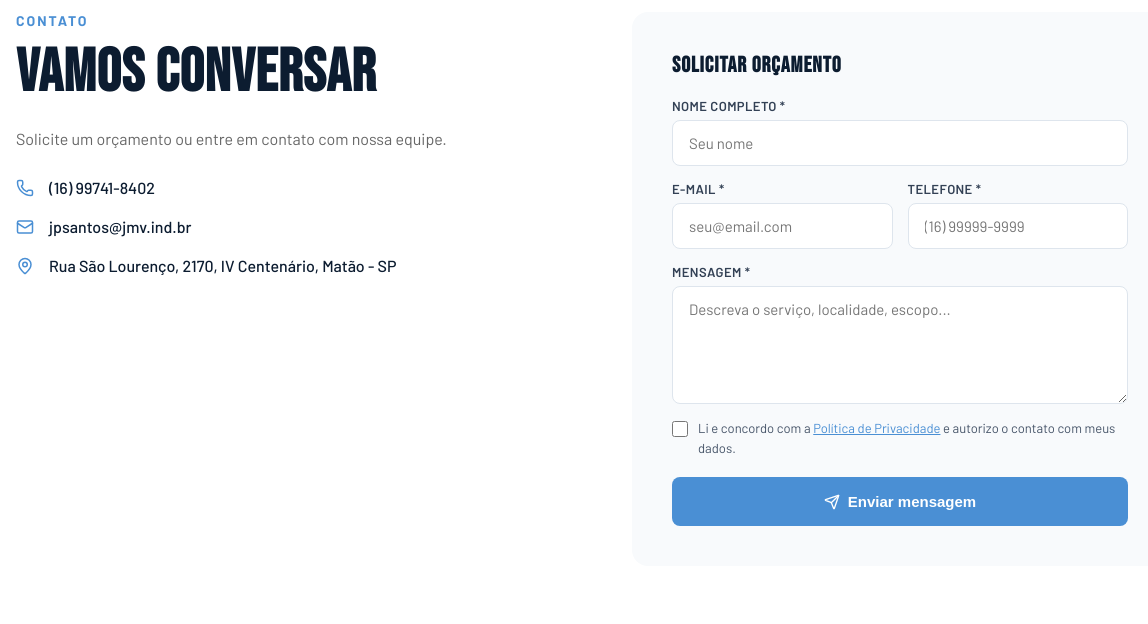
Test: Contact — validação › limpa o erro do campo ao corrigir o valor
The width and height of the screenshot is (1148, 624).
Click the button "Enviar mensagem" at point(900, 502), box [672,477,1128,526]
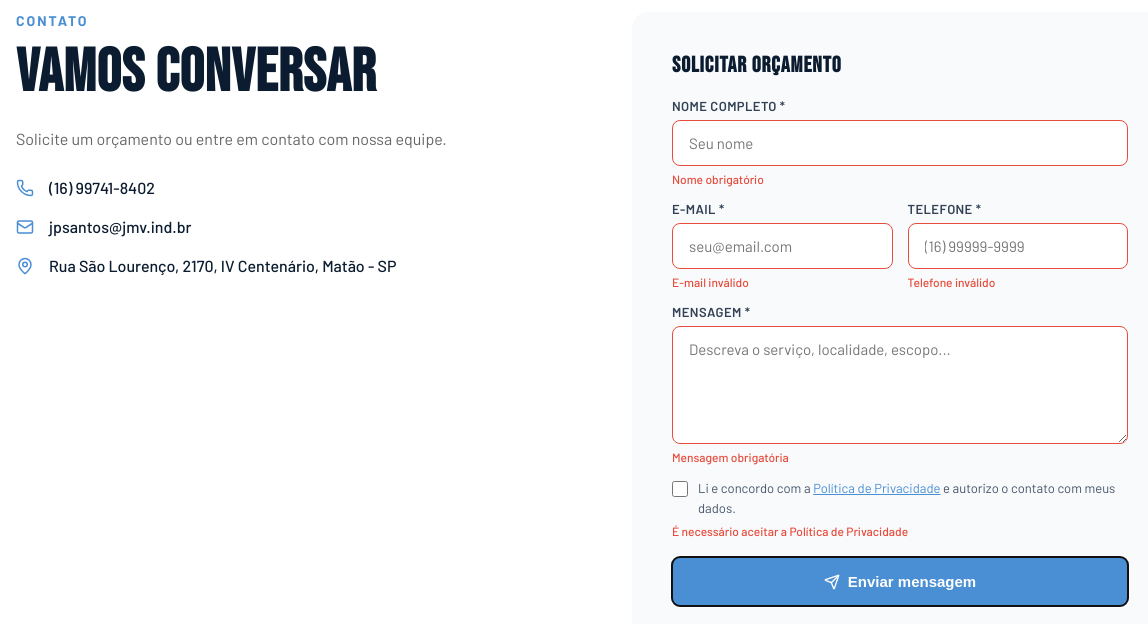
Expected: the text "Nome obrigatório" is shown, [672,172,764,186]
Type "João" into the field labelled "Nome completo *" at point(900, 143), box [672,120,1128,166]
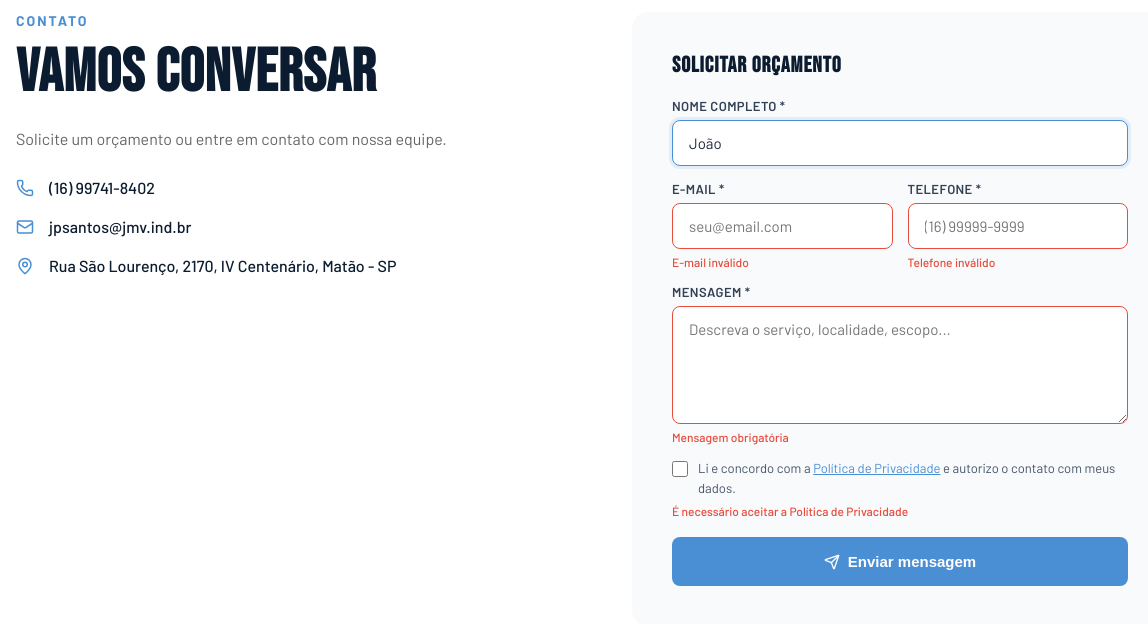
Expected: the text "Nome obrigatório" is gone
